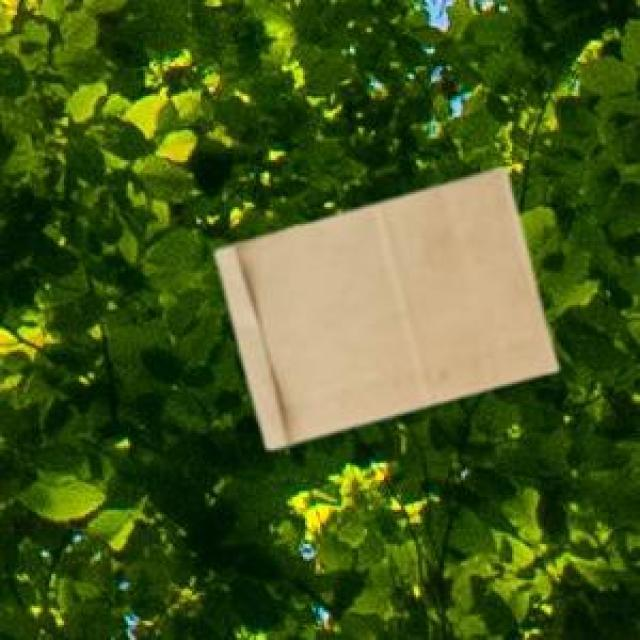paper: (211, 164, 553, 444)
